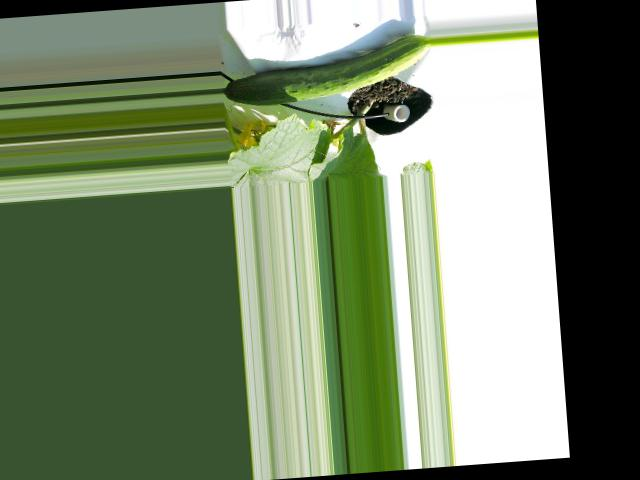cucumber: (220, 33, 435, 108)
